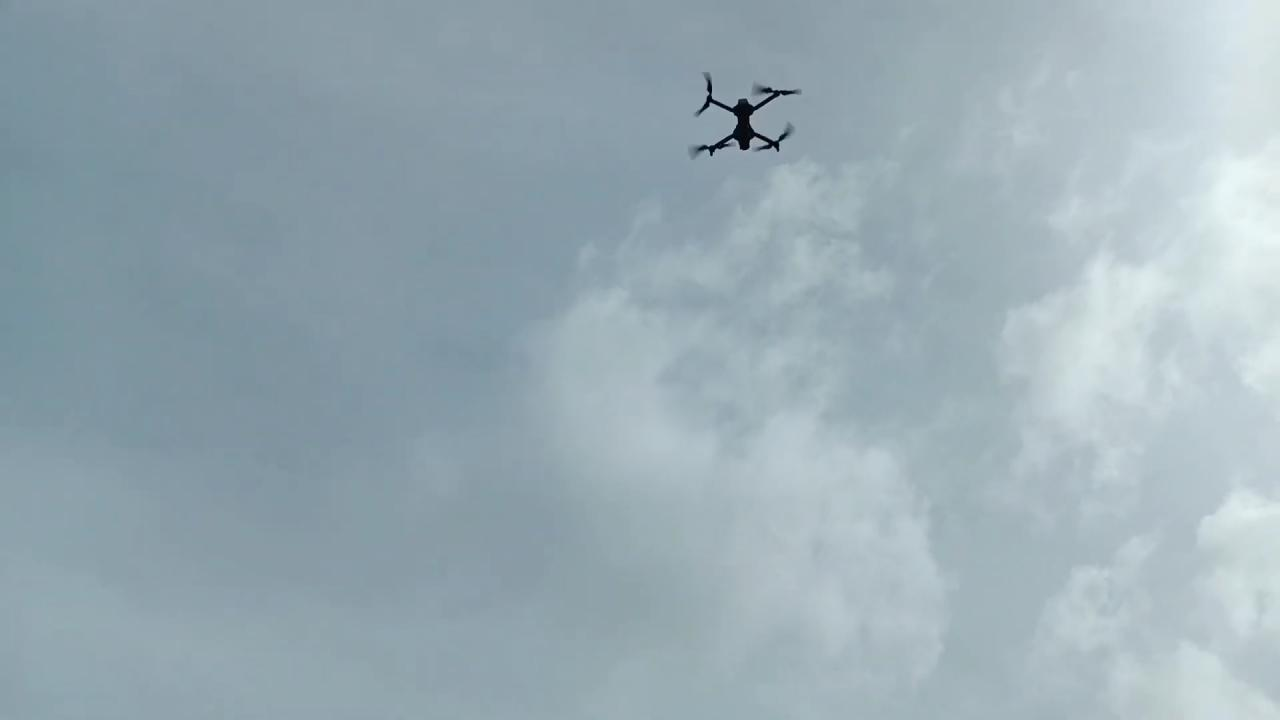Drone: (677, 61, 816, 171)
